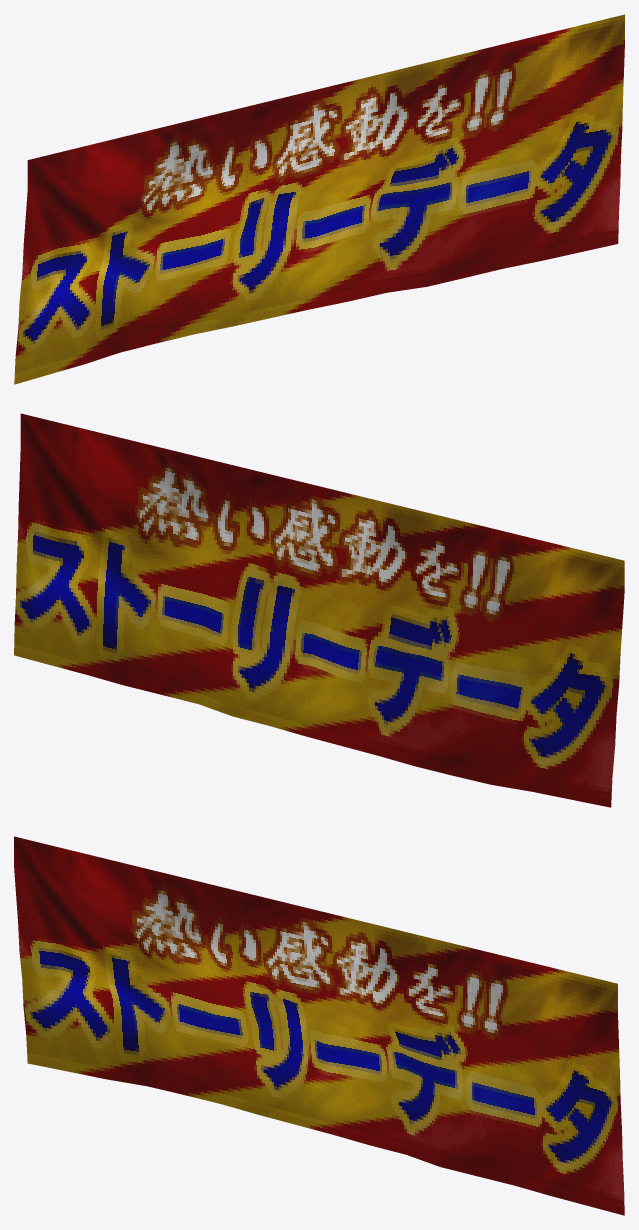
The model's file is ps2_save-icons_winningpostworld-story.glb.
3 views of the same model, one above another, from view 1: azimuth 30°, elevation 25°; view 2: azimuth 150°, elevation 25°; view 3: azimuth 330°, elevation 25° (orthographic).
Visible parts, largest first — view 1: story.icn; view 2: story.icn; view 3: story.icn.
Boxes of the visible parts, x1,y1,x2,y2 form: story.icn: (14,14,624,384); story.icn: (14,413,624,807); story.icn: (14,836,624,1215).
Bounding box in the file's own units: 4.95 × 1.86 × 0.2935.
1 material, 1 textured.
